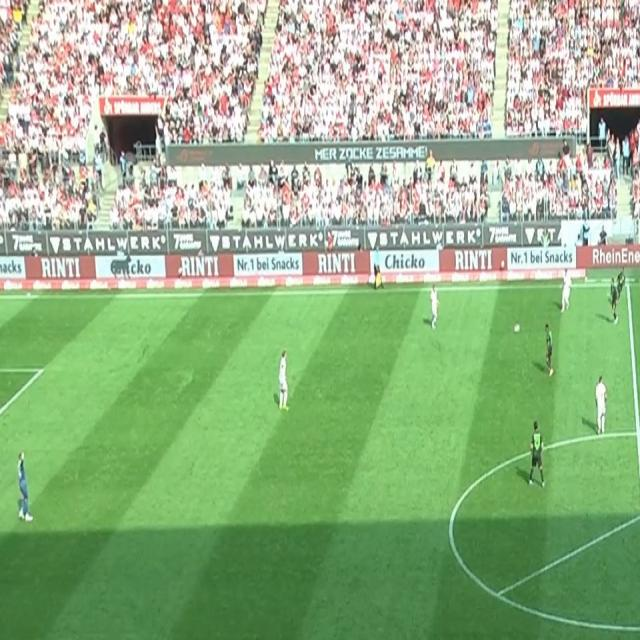ball: (514, 322, 520, 333)
